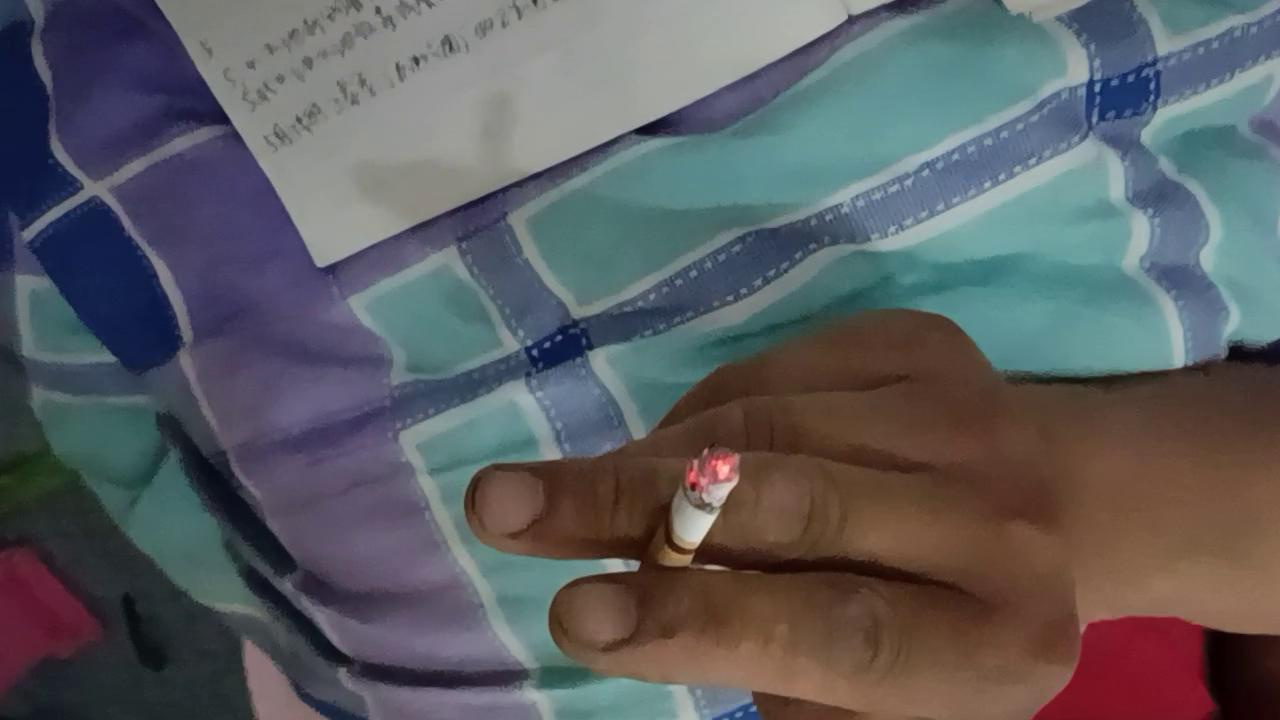smoke: (627, 442, 744, 597)
